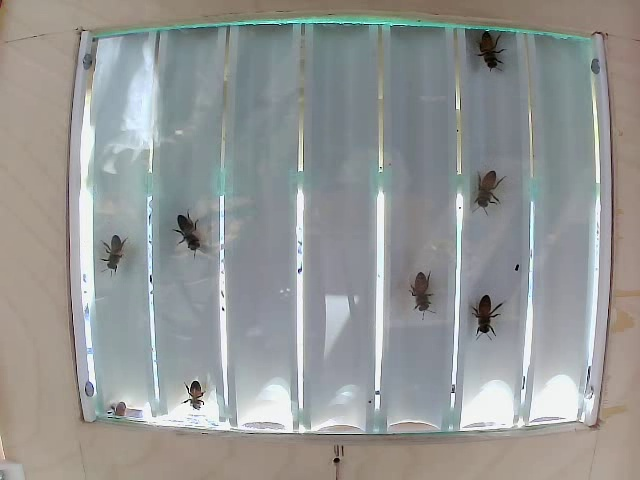bee: (394, 269, 441, 329), (174, 206, 210, 262), (108, 226, 137, 295), (465, 295, 502, 348), (175, 378, 216, 423), (468, 151, 495, 213), (475, 36, 509, 81)
